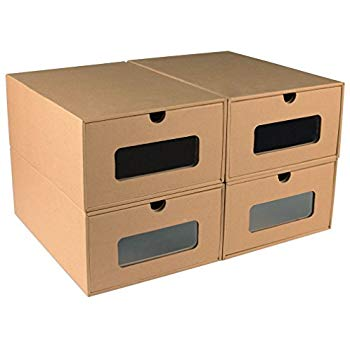Rec_Paper: (5, 41, 342, 306)
